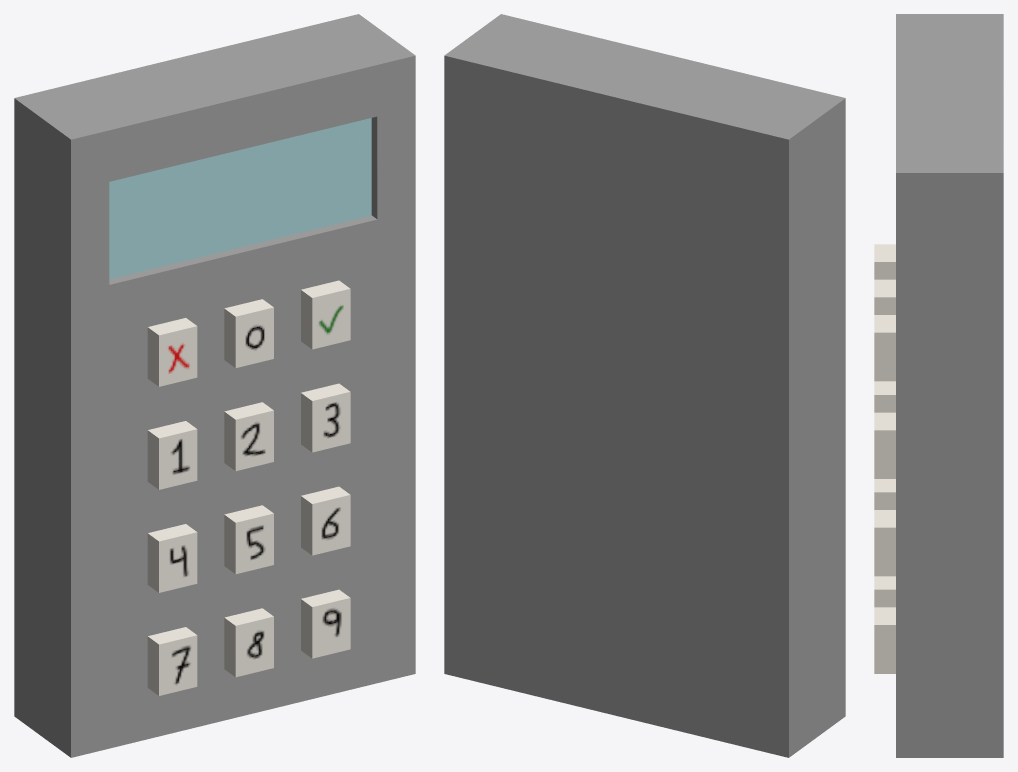
Rendered from SM_Cerradura_numerica.glb.
3 renders of one model, left to right at view 1: azimuth 30°, elevation 25°; view 2: azimuth 150°, elevation 25°; view 3: azimuth 270°, elevation 25°, orthographic. The views are drawn at different scales.
Visible parts, largest first — view 1: SM_CerraduraNumerica; view 2: SM_CerraduraNumerica; view 3: SM_CerraduraNumerica.
Part boxes in pixels (bbox=[...]): SM_CerraduraNumerica: bbox=[14, 14, 415, 757]; SM_CerraduraNumerica: bbox=[444, 14, 845, 757]; SM_CerraduraNumerica: bbox=[874, 14, 1003, 757].
Size of the model in its own units: 0.07 by 0.12 by 0.024.
1 material, 1 textured.
